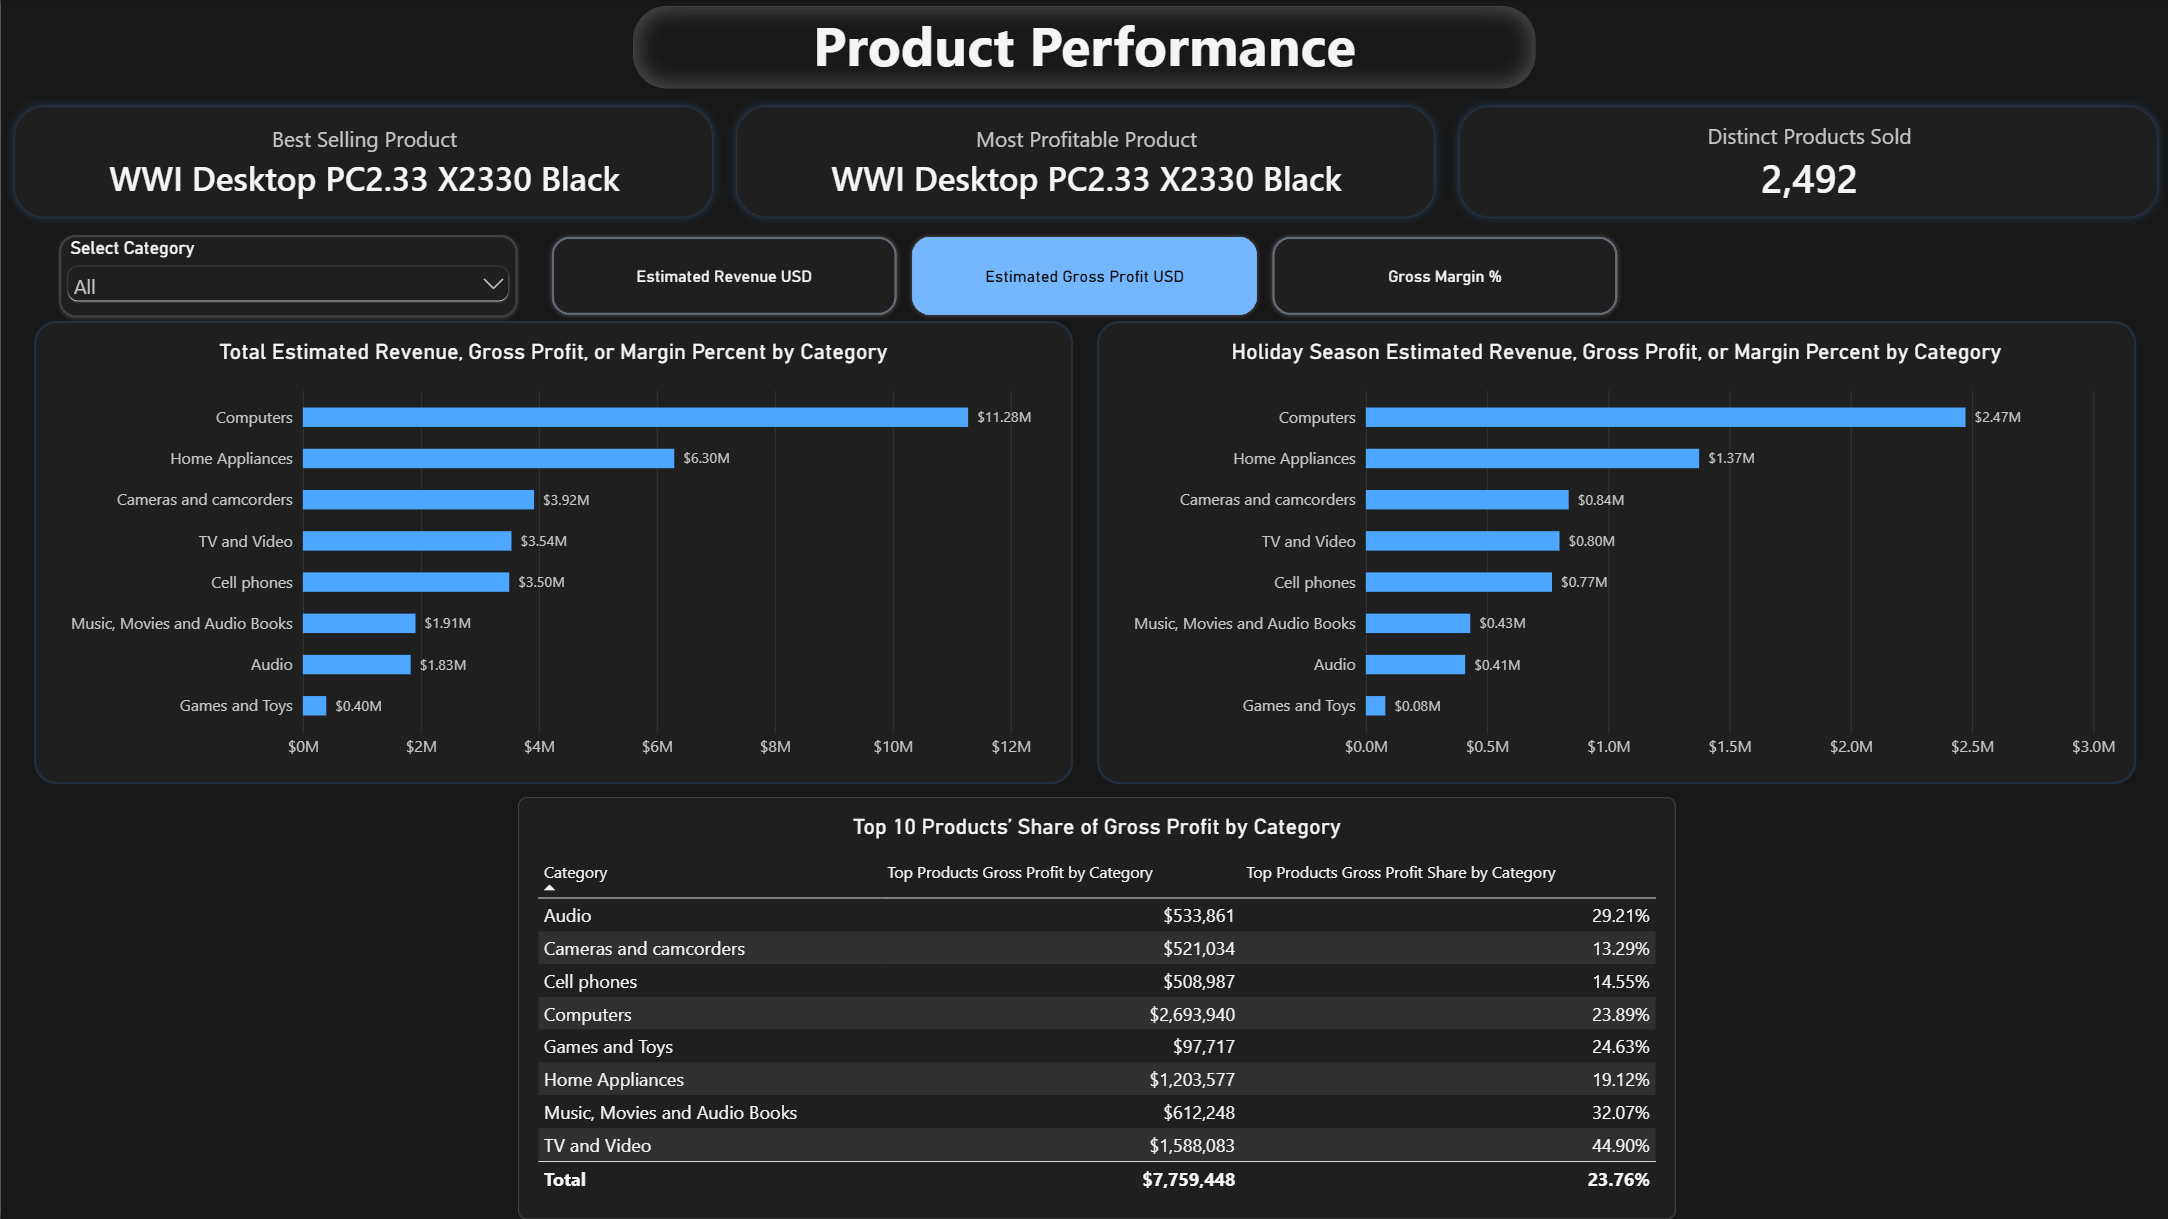

The page's visual inventory and layout, read from the dashboard file:
{"tool":"powerbi","page":{"name":"Product Performance","canvas":[1920,1080],"ordinal":1},"visuals":[{"type":"barChart","title":"Total Estimated Revenue, Gross Profit, or Margin Percent by Category","fields":{"Category":["Products.category"],"Y":["_Measures.Estimated Revenue USD"]},"box":[29.2,284.7,919.8,409.9],"z":0},{"type":"tableEx","title":"Top 10 Products’ Share of Gross Profit by Category","fields":{"Values":["Products.category","_Measures.TopProducts","_Measures.Top Products Gross Profit Share"]},"box":[457.8,706.1,1025.2,374.4],"z":1000},{"type":"textbox","box":[559.5,6.2,799.4,72.6],"z":2000},{"type":"cardVisual","fields":{"Data":["_Measures.Best Selling Product"]},"box":[0.6,83.7,640,120],"z":3000},{"type":"cardVisual","fields":{"Data":["_Measures.Distinct Products Sold"]},"box":[1280,83.7,640,120],"z":4000},{"type":"cardVisual","fields":{"Data":["_Measures.Most Profitable Product"]},"box":[640.3,83.7,640,120],"z":5000},{"type":"advancedSlicerVisual","title":"Select Year(s)","fields":{"Values":["Revenue vs Profit vs Margin %.Revenue vs Profit vs Margin %"]},"box":[480.8,203.4,959.5,83.4],"z":6000},{"type":"barChart","title":"Holiday Season Estimated Revenue, Gross Profit, or Margin Percent by Category","fields":{"Category":["Products.category"],"Y":["_Measures.Estimated Revenue USD"]},"box":[969.9,284.7,919.8,409.9],"z":7000},{"type":"slicer","fields":{"Values":["Products.category"]},"box":[51.6,209.3,406.2,72.6],"z":8000}]}

Visuals, with their boxes in screenshot pixels (x1, y1, x2, y2), scaled from the page's 1920x1080 canvas onto the 2168x1219 screenshot:
"Total Estimated Revenue, Gross Profit, or Margin Percent by Category" barChart: 33, 321, 1072, 784
"Top 10 Products’ Share of Gross Profit by Category" tableEx: 517, 797, 1675, 1218
textbox: 632, 7, 1534, 89
cardVisual - _Measures.Best Selling Product: 1, 94, 723, 230
cardVisual - _Measures.Distinct Products Sold: 1445, 94, 2167, 230
cardVisual - _Measures.Most Profitable Product: 723, 94, 1446, 230
"Select Year(s)" advancedSlicerVisual: 543, 230, 1626, 324
"Holiday Season Estimated Revenue, Gross Profit, or Margin Percent by Category" barChart: 1095, 321, 2134, 784
slicer - Products.category: 58, 236, 517, 318
